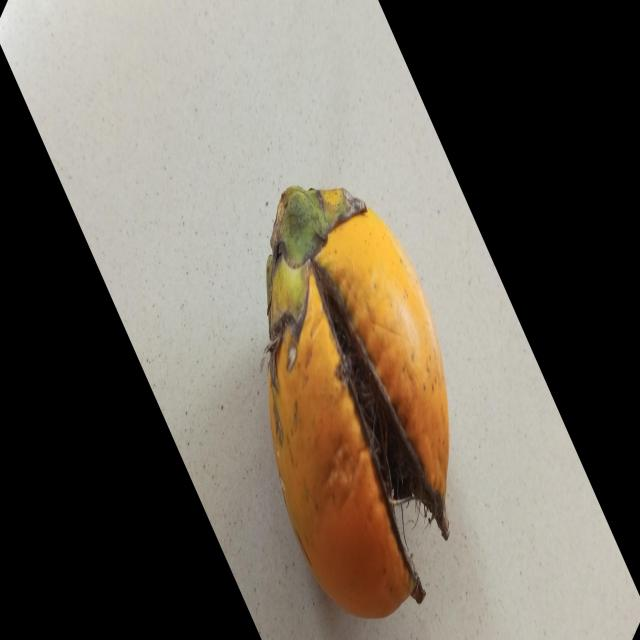damaged: (263, 186, 449, 618)
